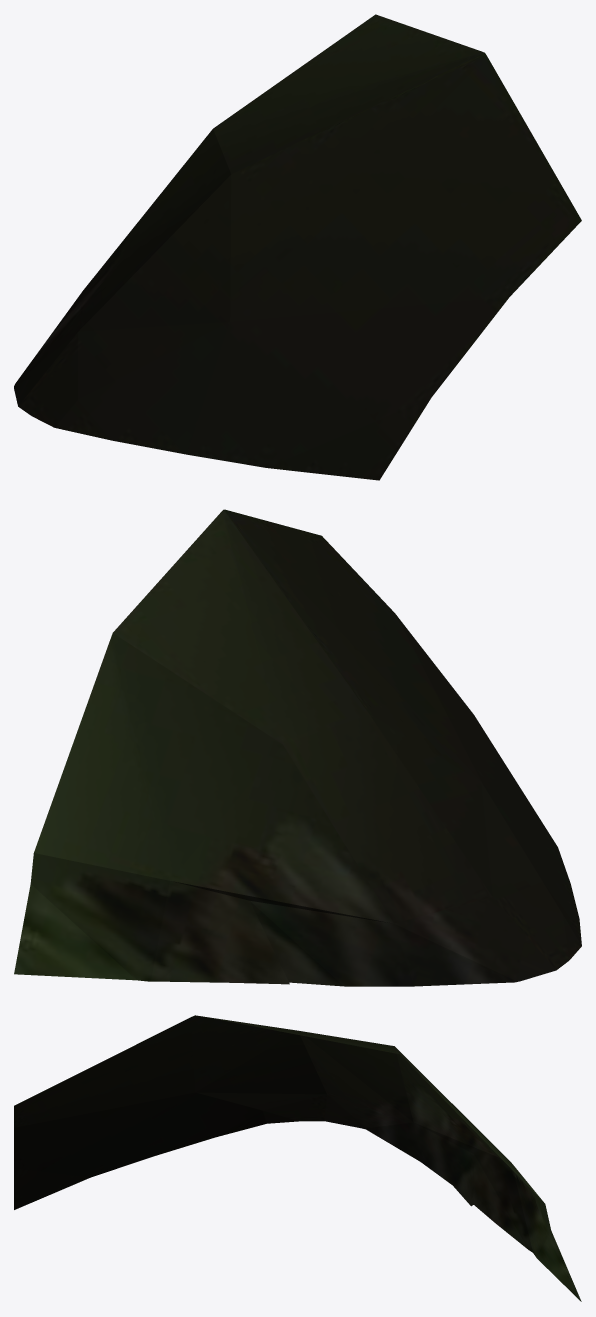
3 renders of one model, top to bottom at view 1: azimuth 30°, elevation 25°; view 2: azimuth 150°, elevation 25°; view 3: azimuth 270°, elevation 25°, orthographic. The views are drawn at different scales.
Size of the model in its own units: 0.5074 by 0.3747 by 0.6715.
2 materials, 2 textured.
